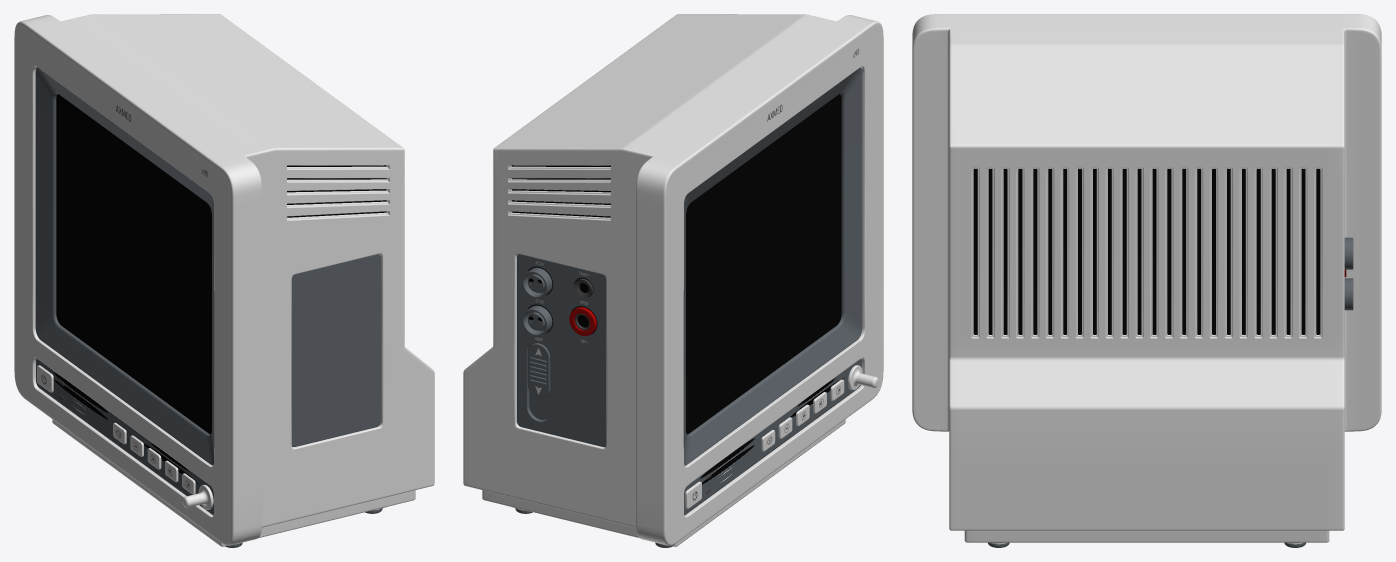
The model's file is patientmonitor.fbx.
3 views of the same model, side by side, from view 1: azimuth 30°, elevation 25°; view 2: azimuth 150°, elevation 25°; view 3: azimuth 270°, elevation 25° (orthographic). The views are drawn at different scales.
Parts seen in each view (by area): view 1: cgaxis_models_55_03_04_7, cgaxis_models_55_03_10_13, cgaxis_models_55_03_01_4, cgaxis_models_55_03_03_6, cgaxis_models_55_03_09_12; view 2: cgaxis_models_55_03_04_7, cgaxis_models_55_03_10_13, cgaxis_models_55_03_01_4, cgaxis_models_55_03_03_6, cgaxis_models_55_03_02_5, cgaxis_models_55_03_09_12; view 3: cgaxis_models_55_03_04_7, cgaxis_models_55_03_09_12, cgaxis_models_55_03_02_5.
Boxes of the visible parts, x1,y1,x2,y2 form: cgaxis_models_55_03_04_7: [14, 14, 434, 546]; cgaxis_models_55_03_10_13: [56, 94, 211, 434]; cgaxis_models_55_03_01_4: [35, 67, 382, 547]; cgaxis_models_55_03_03_6: [36, 359, 213, 515]; cgaxis_models_55_03_09_12: [287, 165, 386, 217]; cgaxis_models_55_03_04_7: [463, 14, 883, 546]; cgaxis_models_55_03_10_13: [686, 94, 841, 434]; cgaxis_models_55_03_01_4: [515, 67, 862, 547]; cgaxis_models_55_03_03_6: [684, 359, 861, 515]; cgaxis_models_55_03_02_5: [521, 267, 552, 336]; cgaxis_models_55_03_09_12: [511, 165, 610, 217]; cgaxis_models_55_03_04_7: [912, 14, 1381, 544]; cgaxis_models_55_03_09_12: [973, 169, 1320, 334]; cgaxis_models_55_03_02_5: [1344, 237, 1353, 310].
Size of the model in its own units: 24.07 by 39 by 38.
10 materials, 5 textured.
